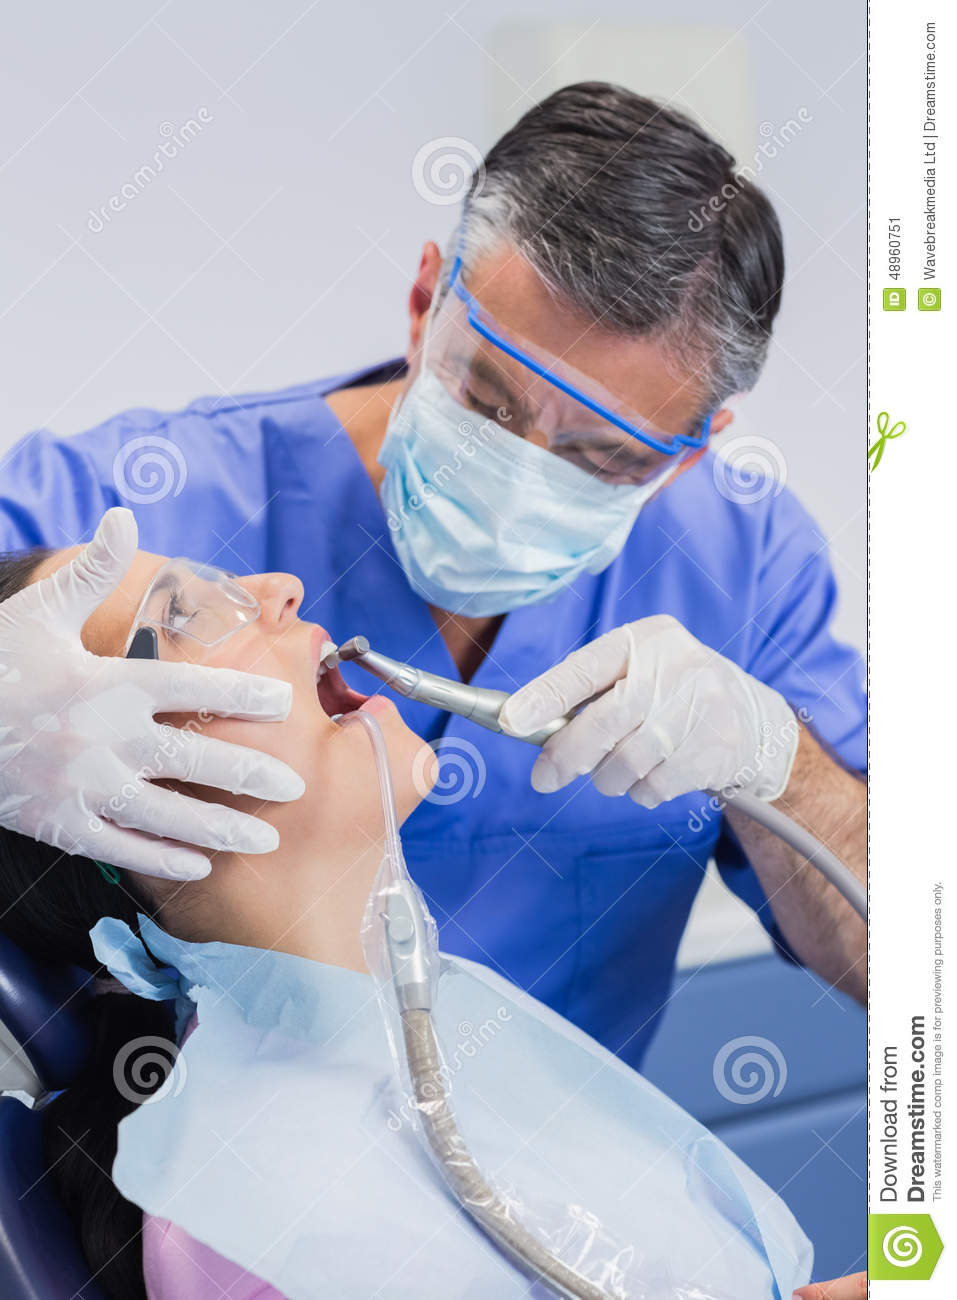mask: (384, 389, 636, 621)
